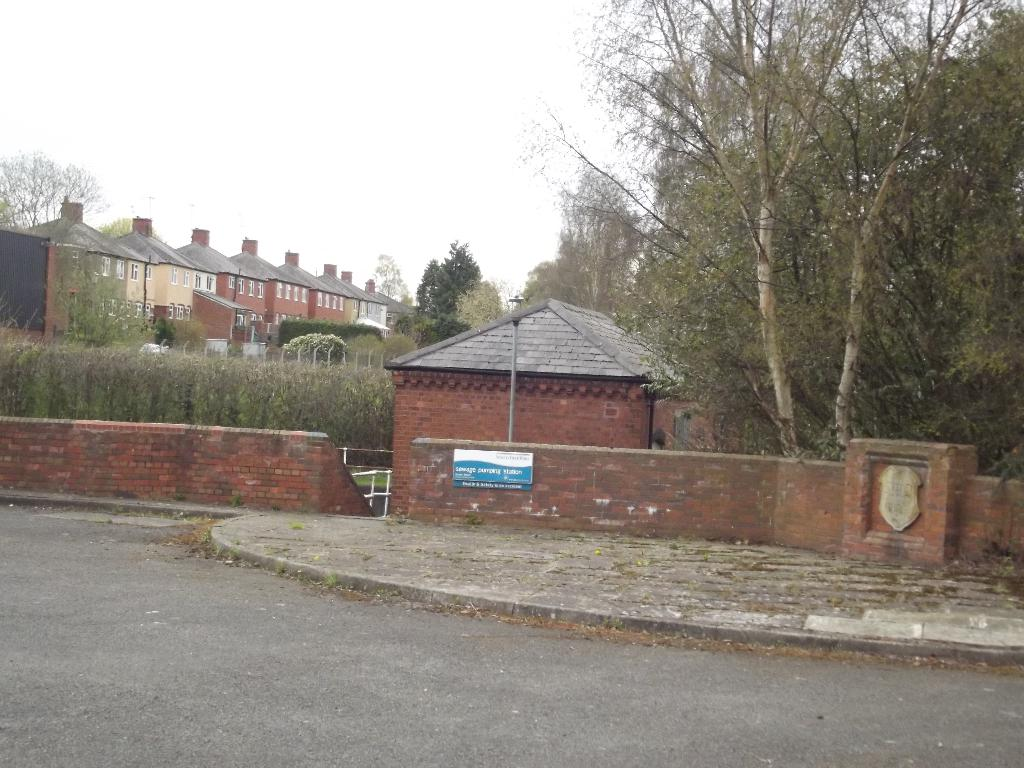Tree: (368, 0, 1023, 481), (45, 218, 159, 353), (0, 149, 98, 227), (93, 212, 161, 244)
